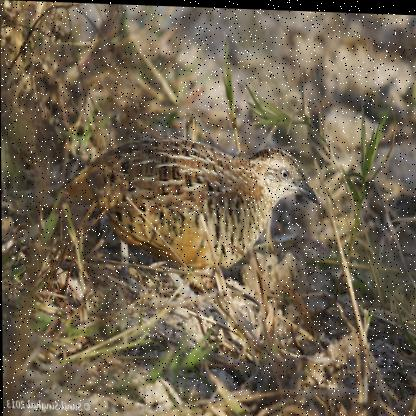Burung: (57, 131, 320, 304)
